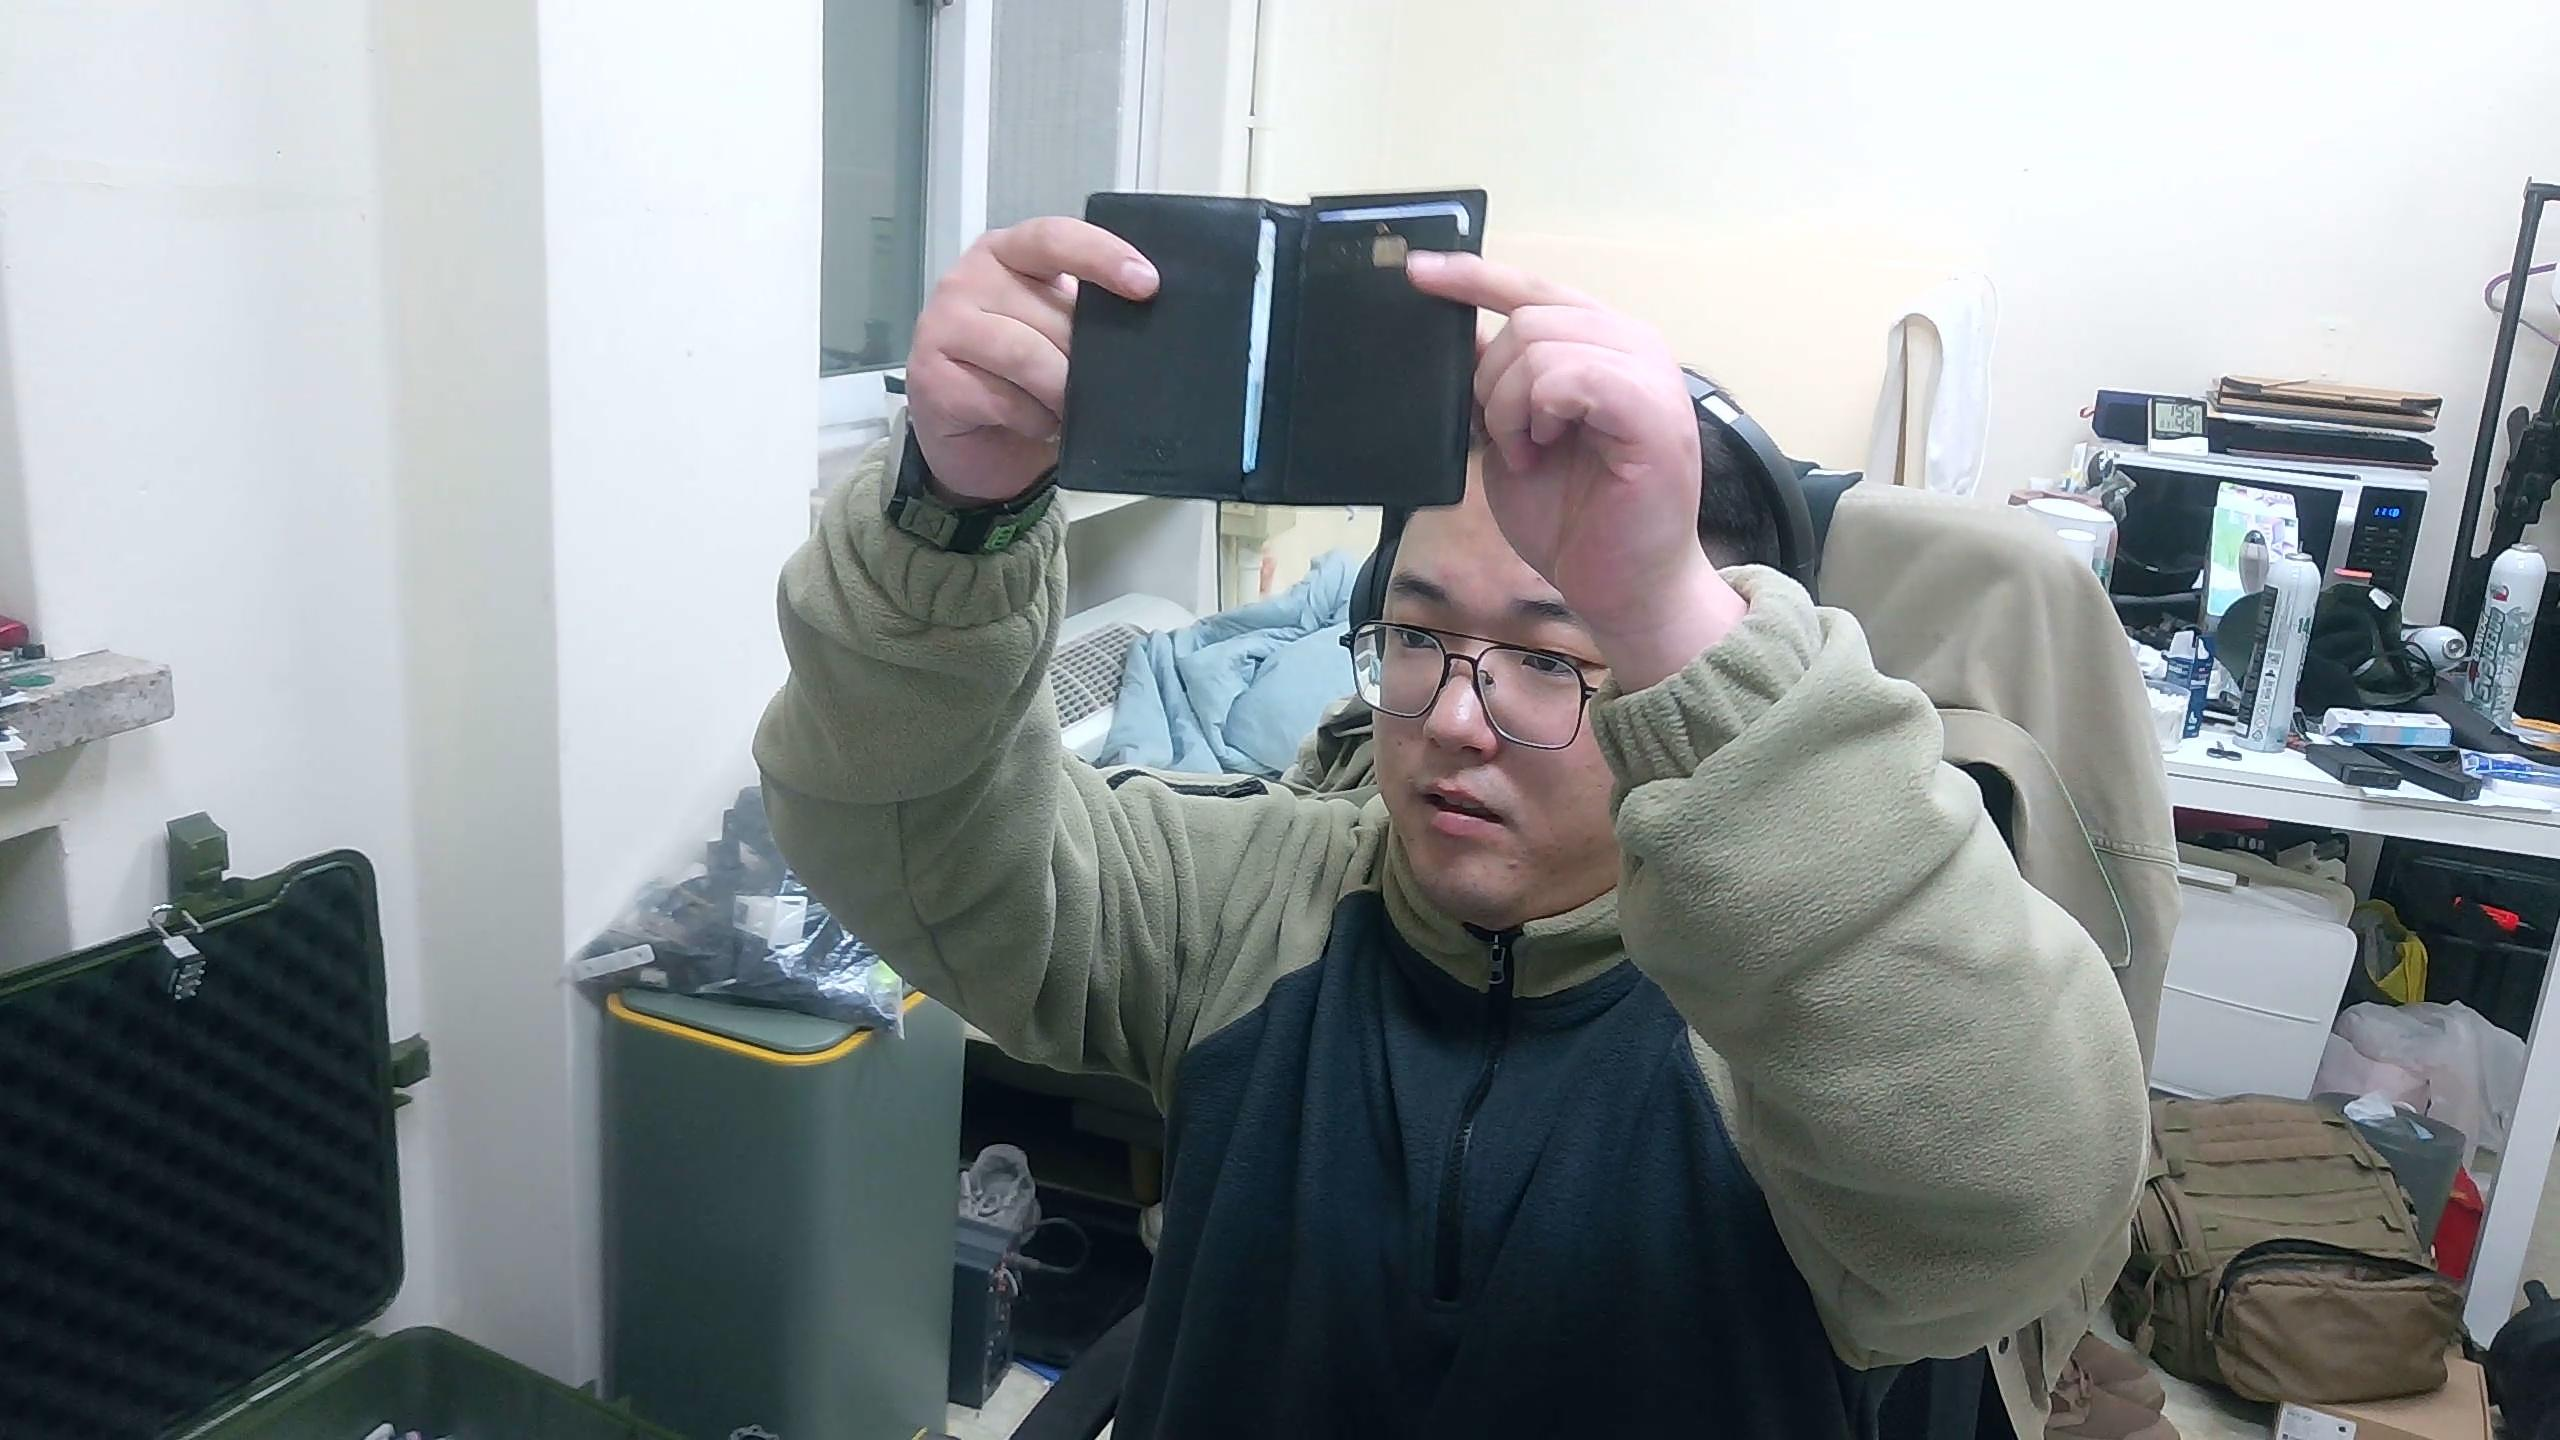earphone: (1053, 183, 1491, 512)
